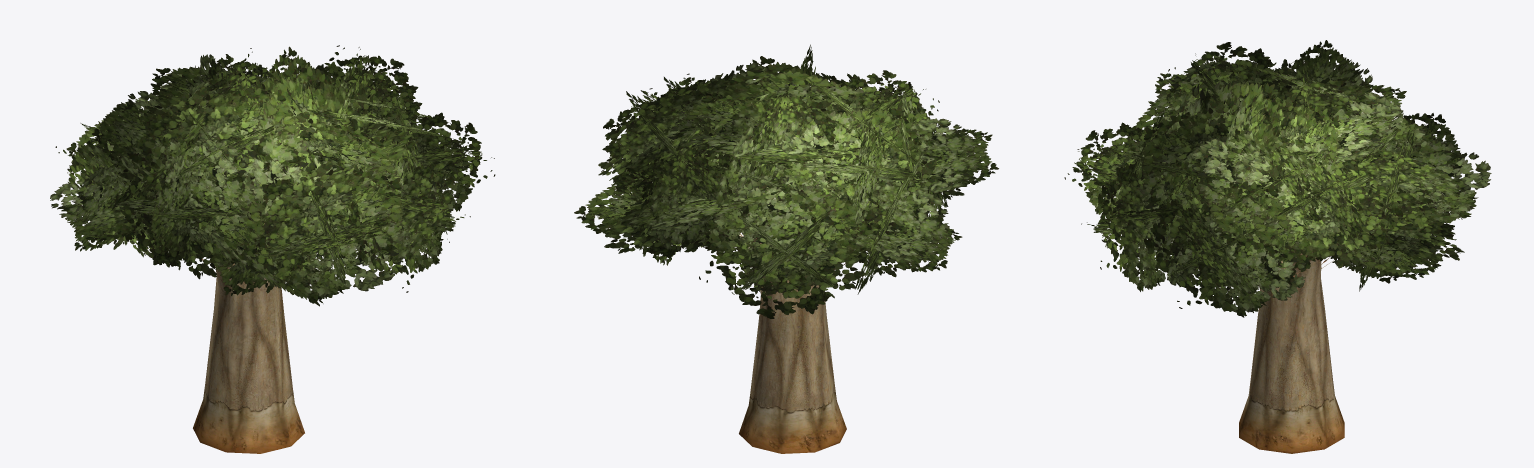
File: core_decd_vweilu_l0.fbx
3 renders of one model, left to right at view 1: azimuth 30°, elevation 25°; view 2: azimuth 150°, elevation 25°; view 3: azimuth 270°, elevation 25°, orthographic. The views are drawn at different scales.
Visible parts, largest first — view 1: mesh_node; view 2: mesh_node; view 3: mesh_node.
Boxes of the visible parts, left/top/right/bottom form: mesh_node: left=50, top=45, right=495, bottom=453; mesh_node: left=574, top=44, right=998, bottom=453; mesh_node: left=1064, top=40, right=1491, bottom=453.
Bounding box in the file's own units: 19.1 × 16.64 × 18.85.
